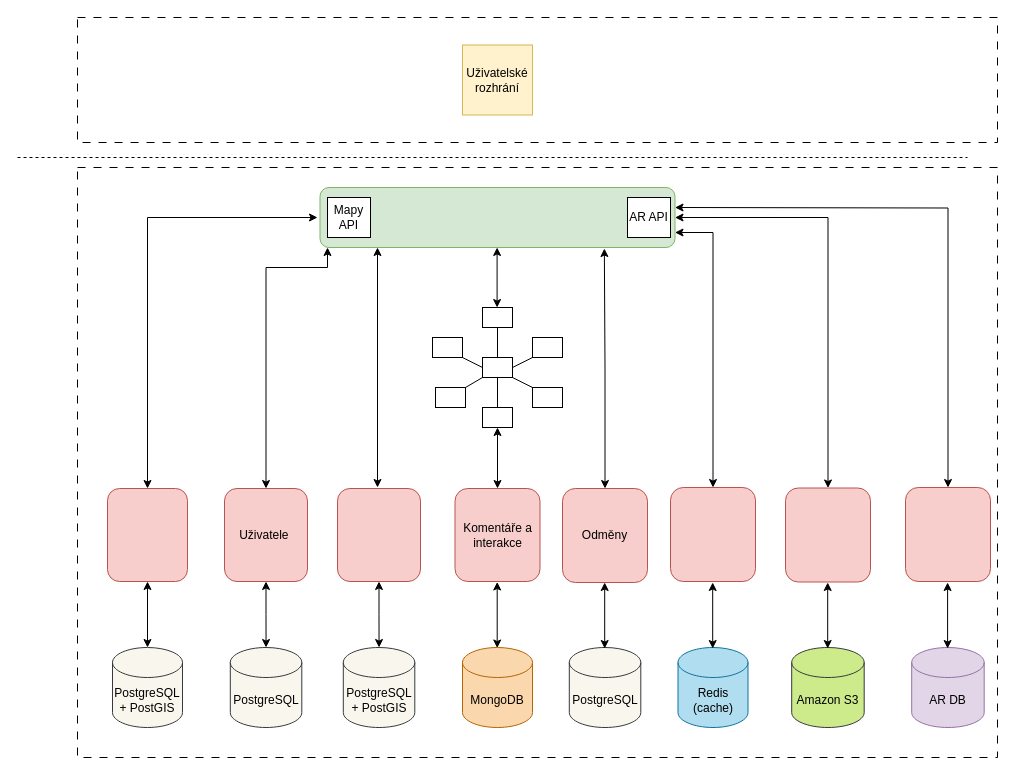
This 1015x775 diagram has some shape labels left out. The shapes that lost their labels are listed below. From the top down, each one's box as (x1, y1, x2, y2) in pixels, then its label:
(319, 186, 675, 248): API gateway
(482, 356, 512, 378): Kafka
(106, 488, 188, 582): Mapy
(336, 488, 420, 582): Evidence mazlíčků
(670, 486, 756, 582): Notifikace
(784, 487, 870, 582): Media
(904, 486, 990, 582): AR
